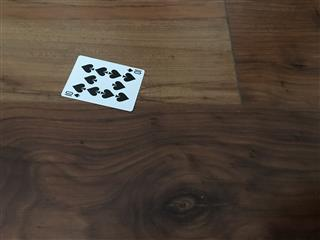TenOfSpades: (59, 54, 145, 112)
